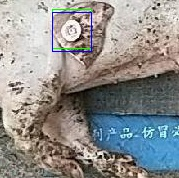text: (52, 9, 91, 48)
